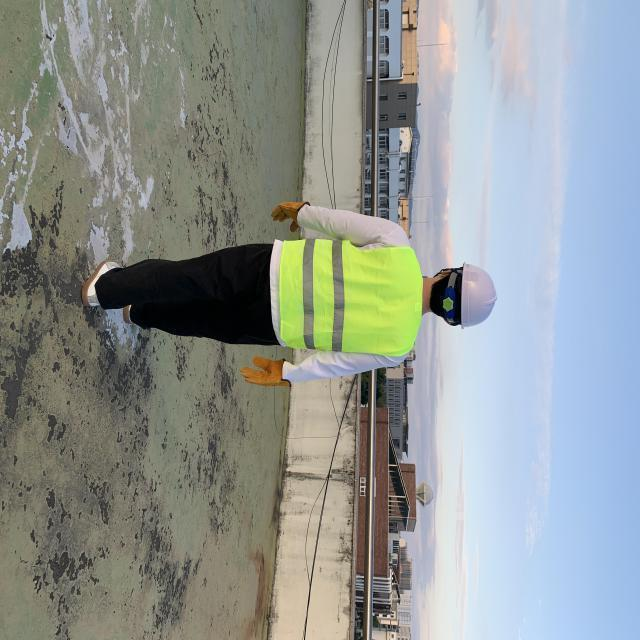gloves: (233, 352, 297, 394), (266, 196, 314, 240)
helmet: (439, 260, 503, 324)
safety_vest: (271, 235, 426, 366)
